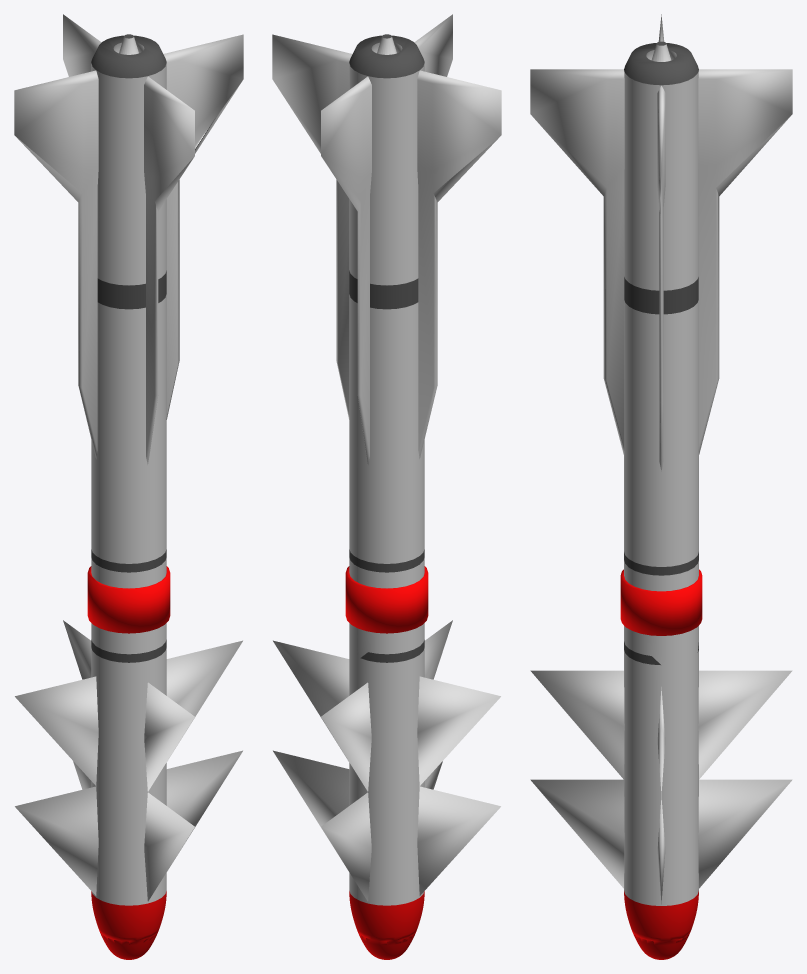
Rendered from missile.dae.
3 views of the same model, side by side, from view 1: azimuth 30°, elevation 25°; view 2: azimuth 150°, elevation 25°; view 3: azimuth 270°, elevation 25° (orthographic).
Parts seen in each view (by area): view 1: Object07; view 2: Object07; view 3: Object07.
Boxes of the visible parts, x1,y1,x2,y2 form: Object07: [14, 14, 243, 959]; Object07: [272, 14, 501, 959]; Object07: [530, 14, 792, 959].
Bounding box in the file's own units: 0.5457 × 0.5457 × 2.1.
